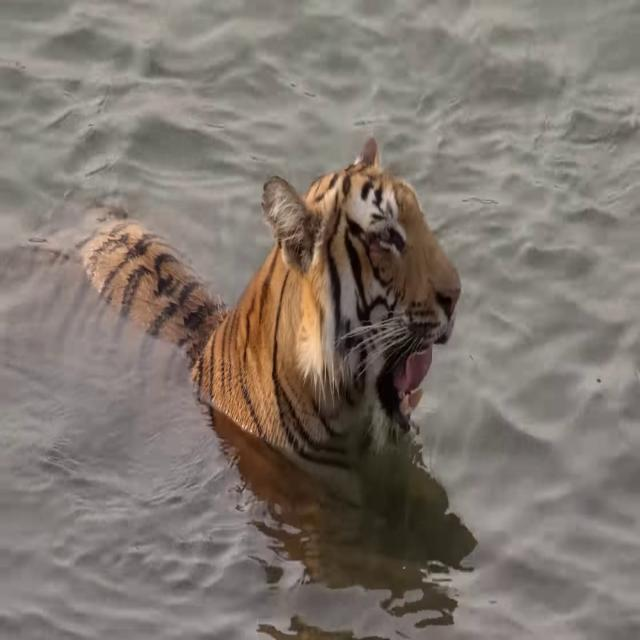tiger: (86, 136, 462, 461)
